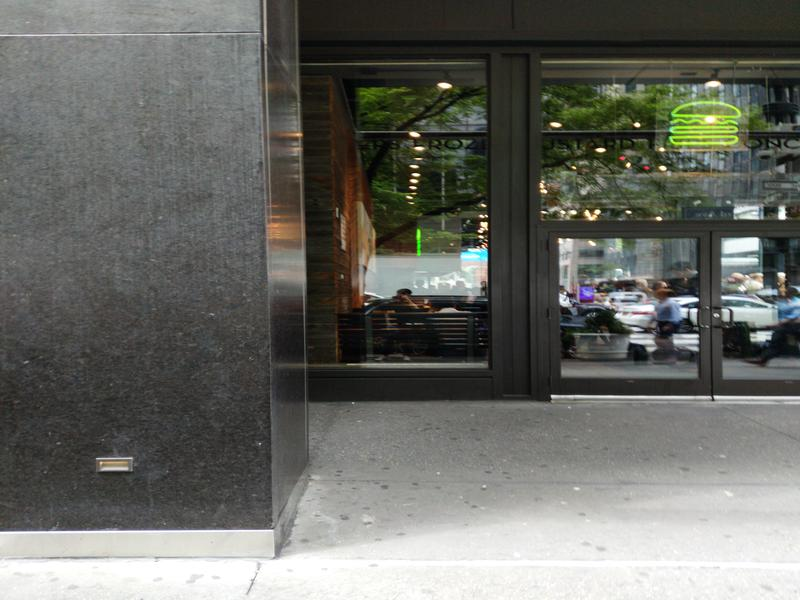double_door: (541, 218, 800, 395)
